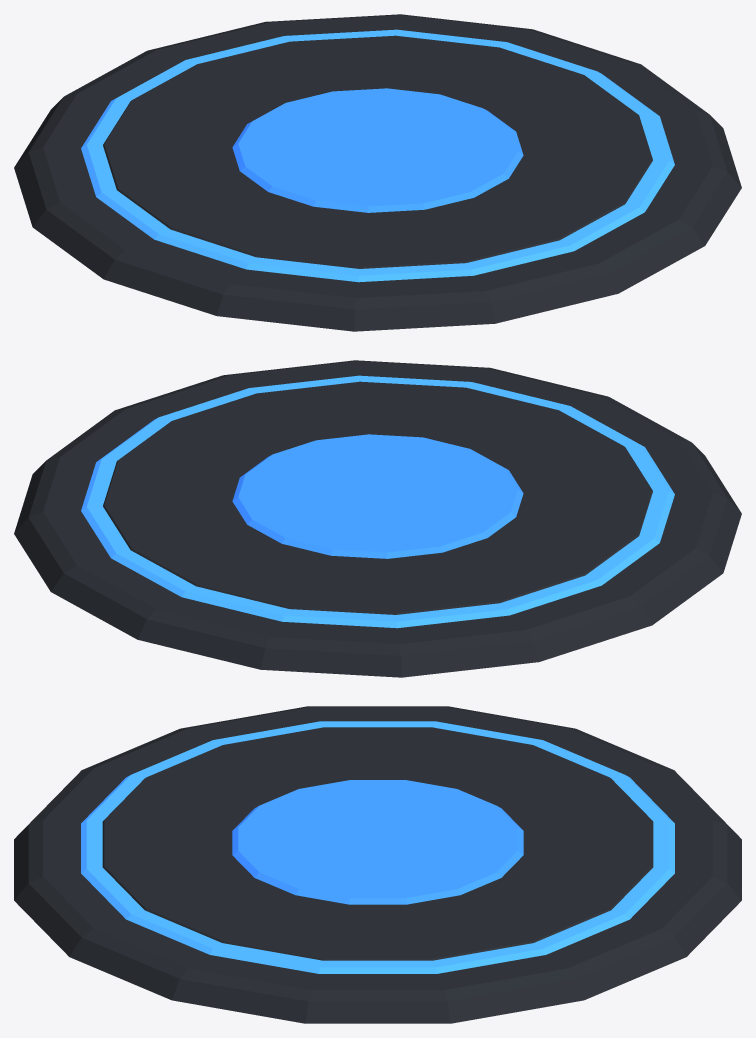
Rendered from spawn_pad_blue.glb.
The picture shows the model from 3 angles, top to bottom: view 1: azimuth 30°, elevation 25°; view 2: azimuth 150°, elevation 25°; view 3: azimuth 270°, elevation 25°; orthographic projection.
Parts seen in each view (by area): view 1: spawn_pad_blue; view 2: spawn_pad_blue; view 3: spawn_pad_blue.
Part boxes in pixels (x1=…): spawn_pad_blue: x1=14, y1=14, x2=741, y2=331; spawn_pad_blue: x1=14, y1=360, x2=741, y2=677; spawn_pad_blue: x1=14, y1=706, x2=741, y2=1023.
Bounding box in the file's own units: 2.45 × 0.115 × 2.45.
